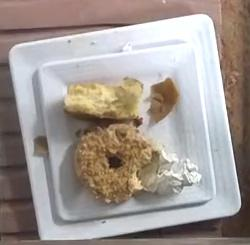bread: (64, 77, 143, 123)
donut: (74, 122, 151, 202)
